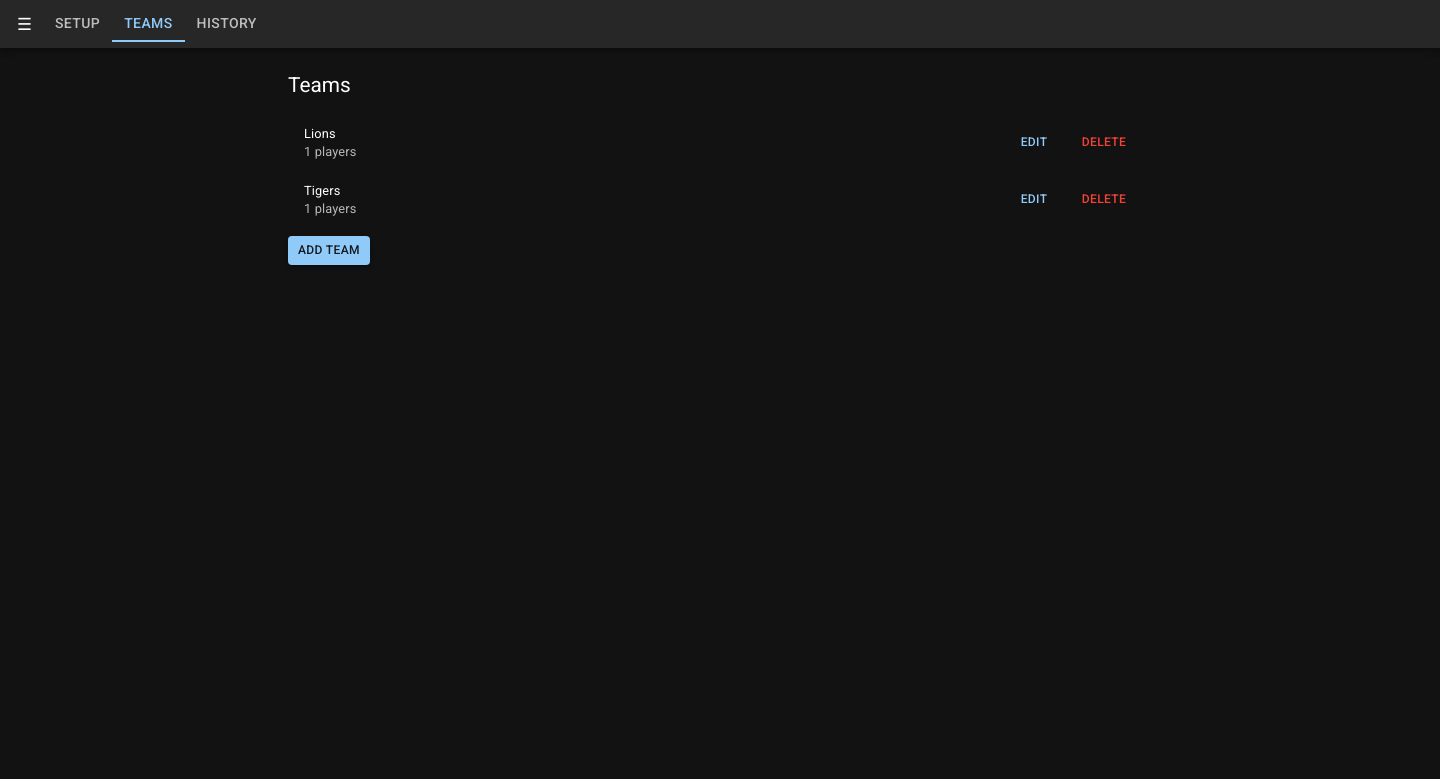
App › starts a match from Setup and renders the Game screen
The image size is (1440, 779).
Click the tab "Setup". click: click(78, 24)
box: x1=43 y1=6 x2=112 y2=42
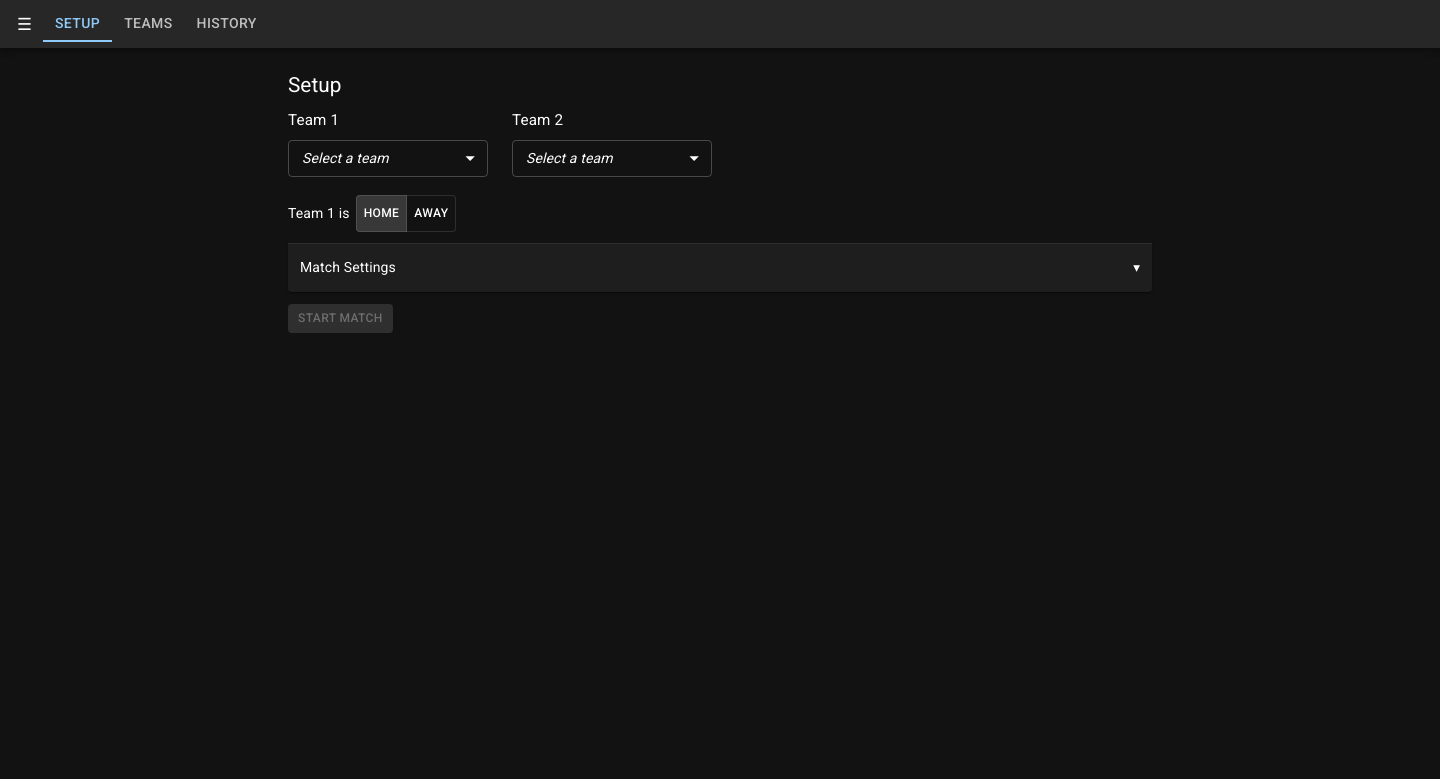
Click the dropdown named "Team 1". click: click(345, 158)
box: x1=302 y1=150 x2=389 y2=166
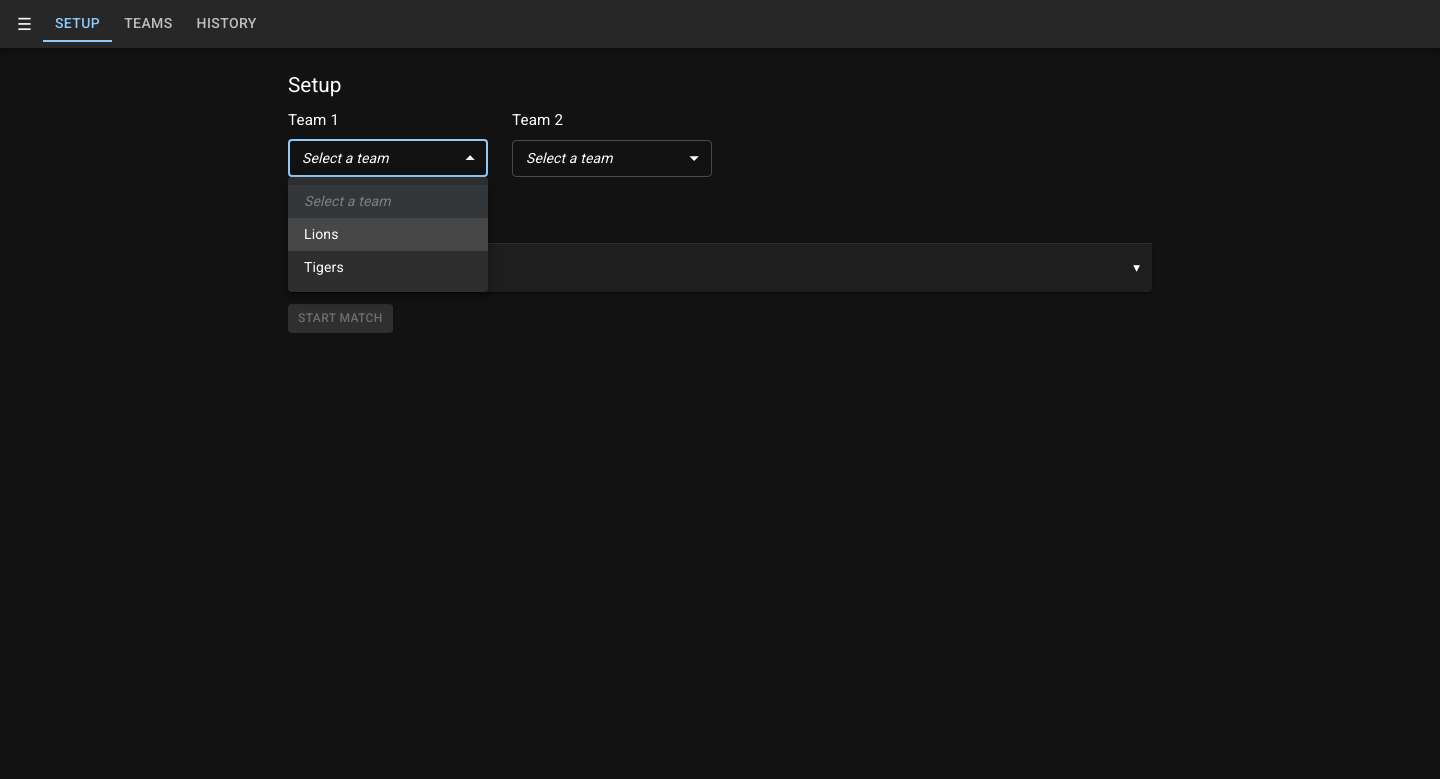
Click the option "Lions". click: click(388, 234)
box: x1=288 y1=218 x2=488 y2=251
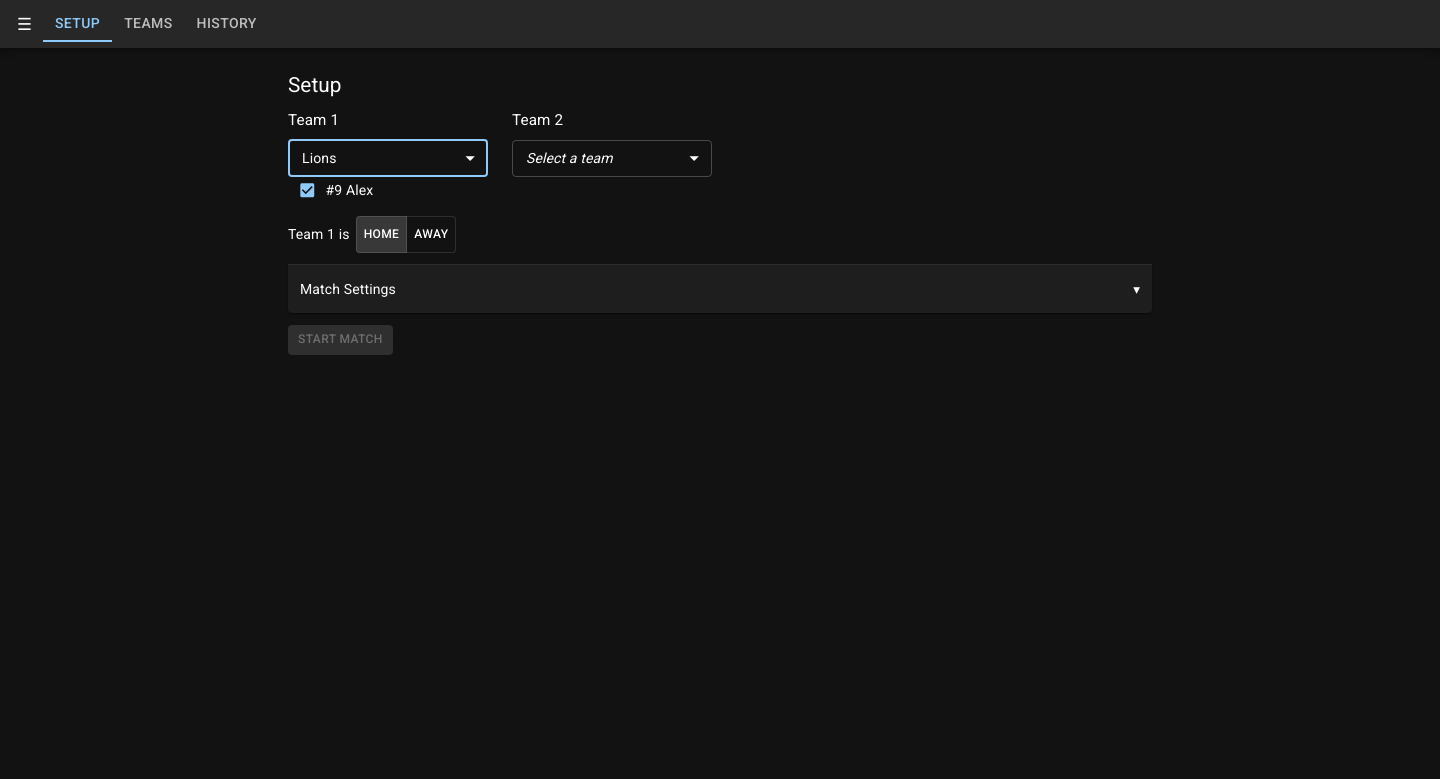
Click the dropdown named "Team 2". click: click(569, 158)
box: x1=526 y1=150 x2=613 y2=166
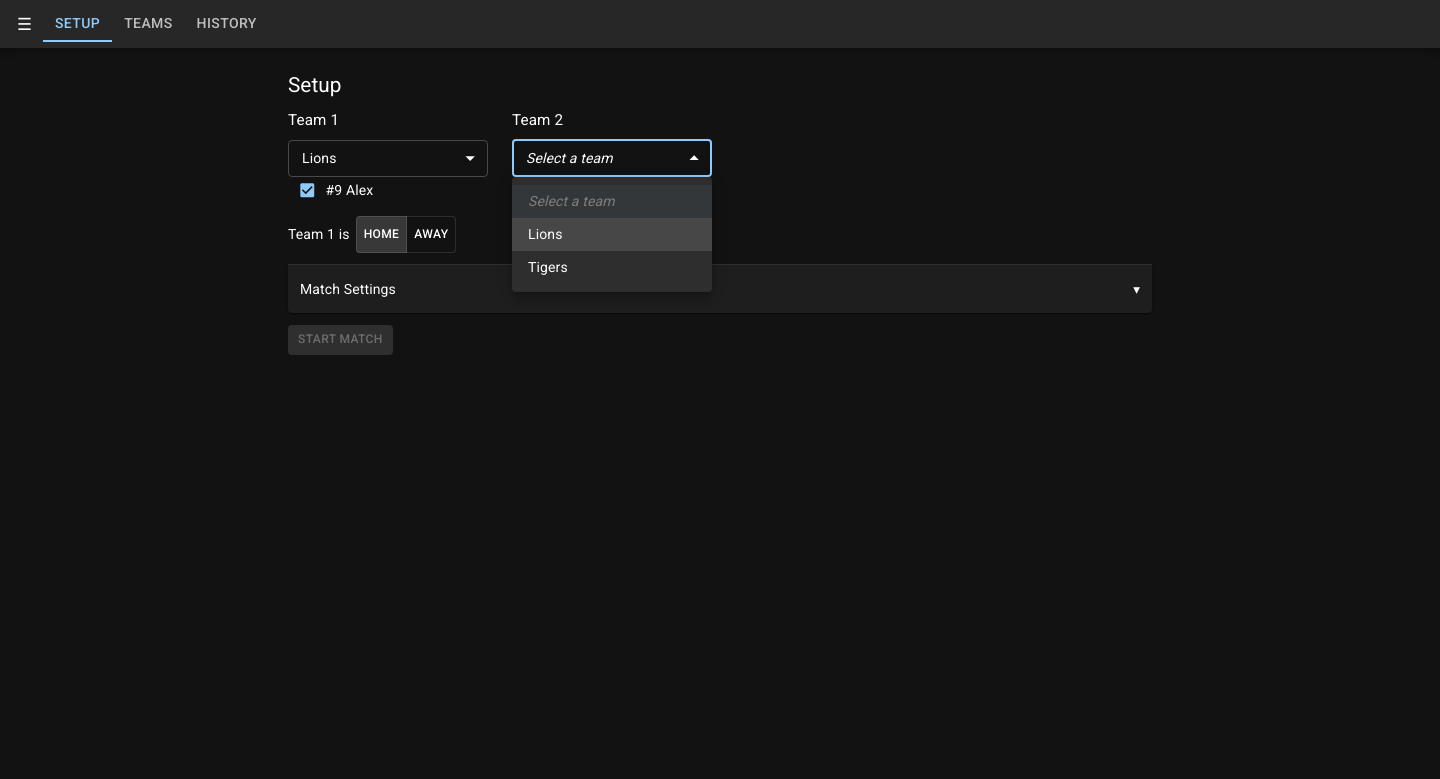
Click the option "Tigers". click: click(548, 267)
box: x1=528 y1=259 x2=568 y2=275
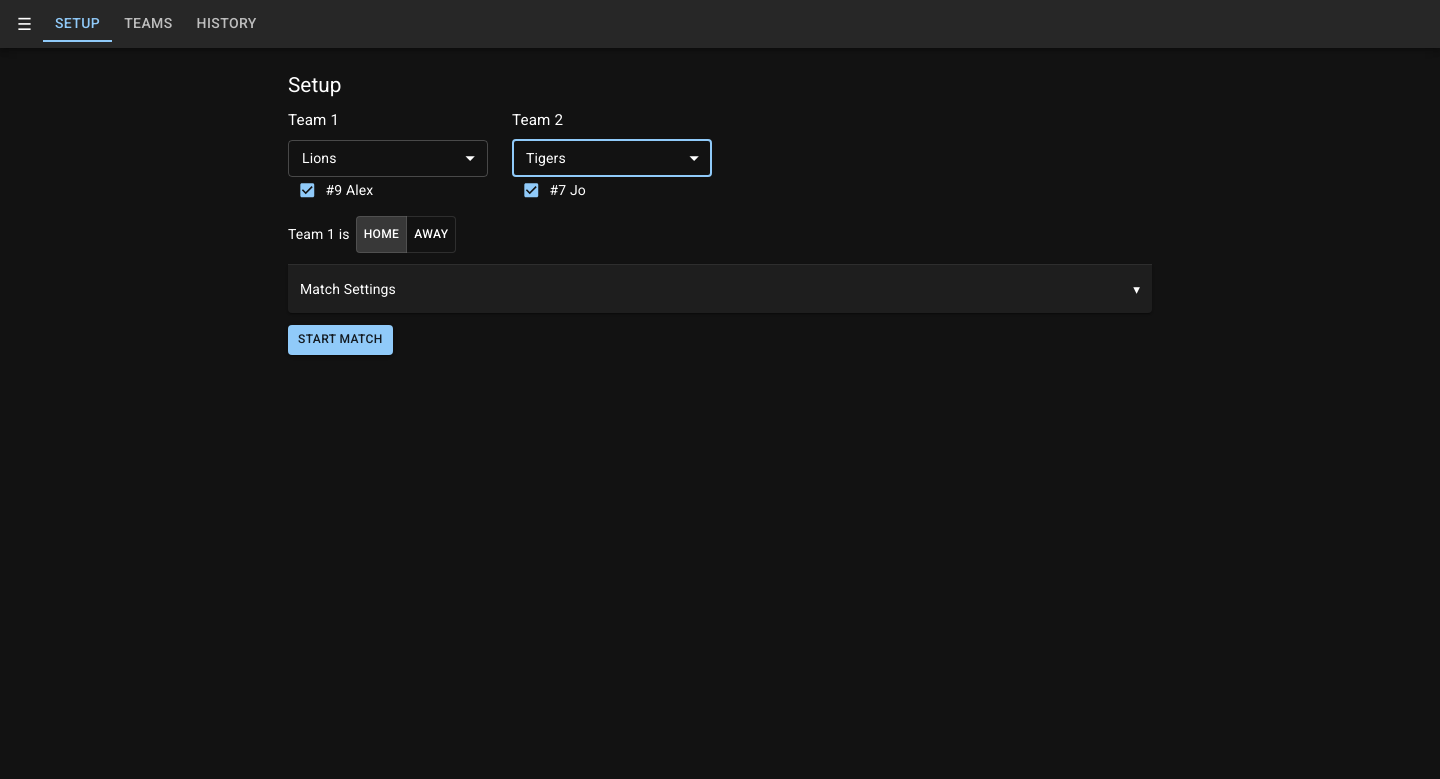
Click the button "Start Match". click: click(340, 340)
box: x1=288 y1=325 x2=393 y2=354
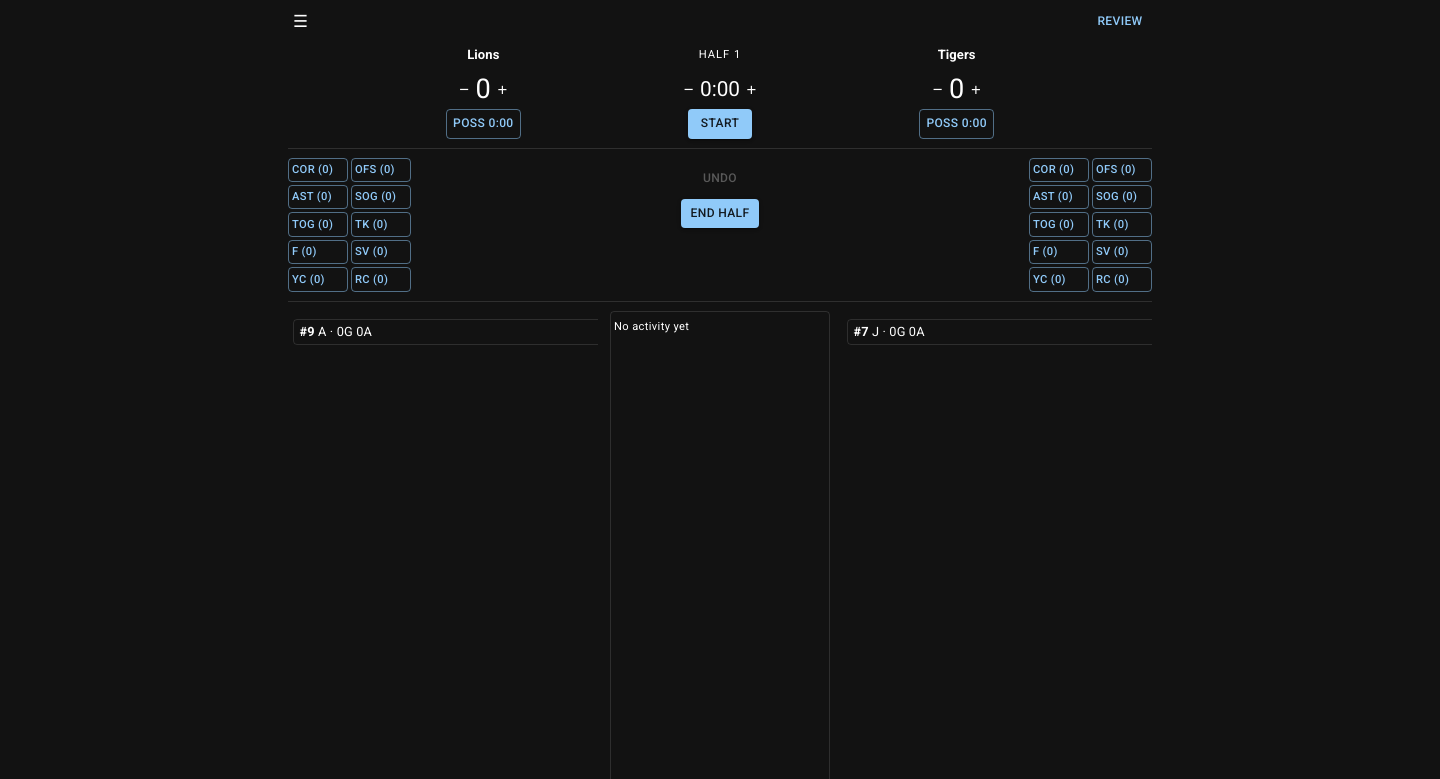
Check: the text "Half 1" is shown, box x1=699 y1=48 x2=741 y2=61
Check: the tab "Setup" is gone
